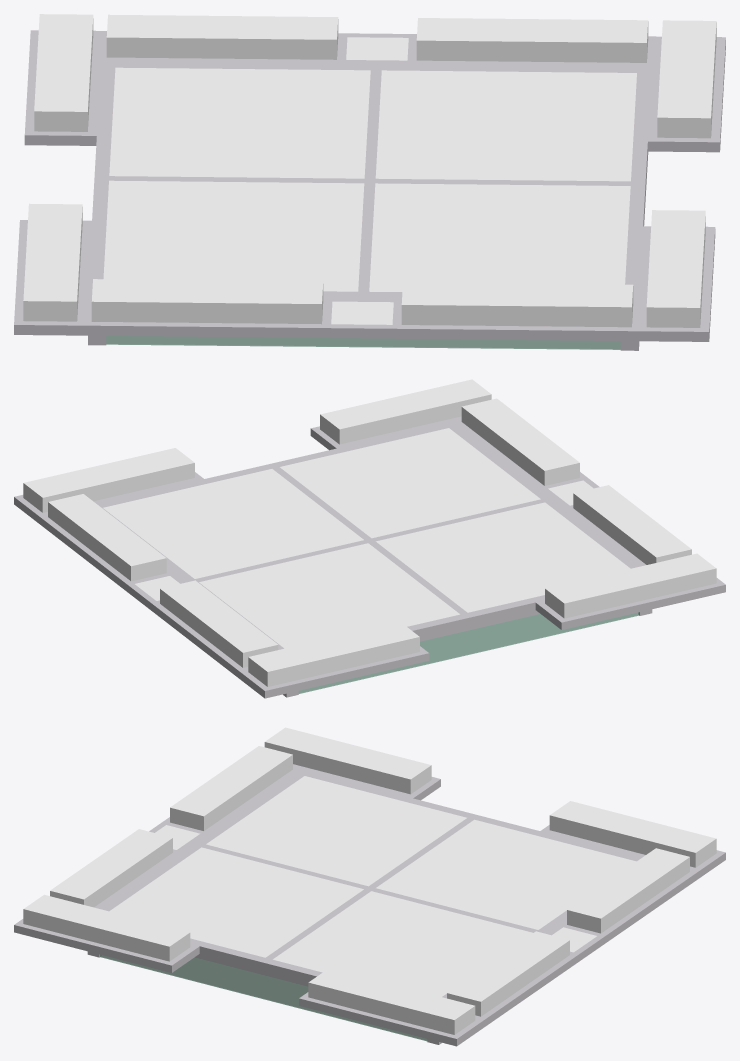
The model's file is TAV-Decke.fbx.
The picture shows the model from 3 angles, top to bottom: view 1: azimuth 30°, elevation 25°; view 2: azimuth 150°, elevation 25°; view 3: azimuth 270°, elevation 25°; orthographic projection. The views are drawn at different scales.
Parts seen in each view (by area): view 1: Textil Stoff, weiß, Farbe, weiß, Metal - Stainless Steel, Glas; view 2: Textil Stoff, weiß, Farbe, weiß, Metal - Stainless Steel, Glas; view 3: Textil Stoff, weiß, Farbe, weiß, Metal - Stainless Steel, Glas.
Part boxes in pixels (x1,y1,x2,y2): Textil Stoff, weiß: (103, 67, 636, 291); Farbe, weiß: (23, 14, 716, 327); Metal - Stainless Steel: (14, 30, 725, 350); Glas: (106, 154, 648, 349); Textil Stoff, weiß: (103, 428, 630, 648); Farbe, weiß: (23, 379, 716, 686); Metal - Stainless Steel: (14, 416, 725, 698); Glas: (298, 612, 639, 693); Textil Stoff, weiß: (109, 776, 636, 996); Farbe, weiß: (23, 727, 716, 1034); Metal - Stainless Steel: (14, 764, 725, 1046); Glas: (100, 954, 427, 1041).
Size of the model in its own units: 519 by 520 by 42.
